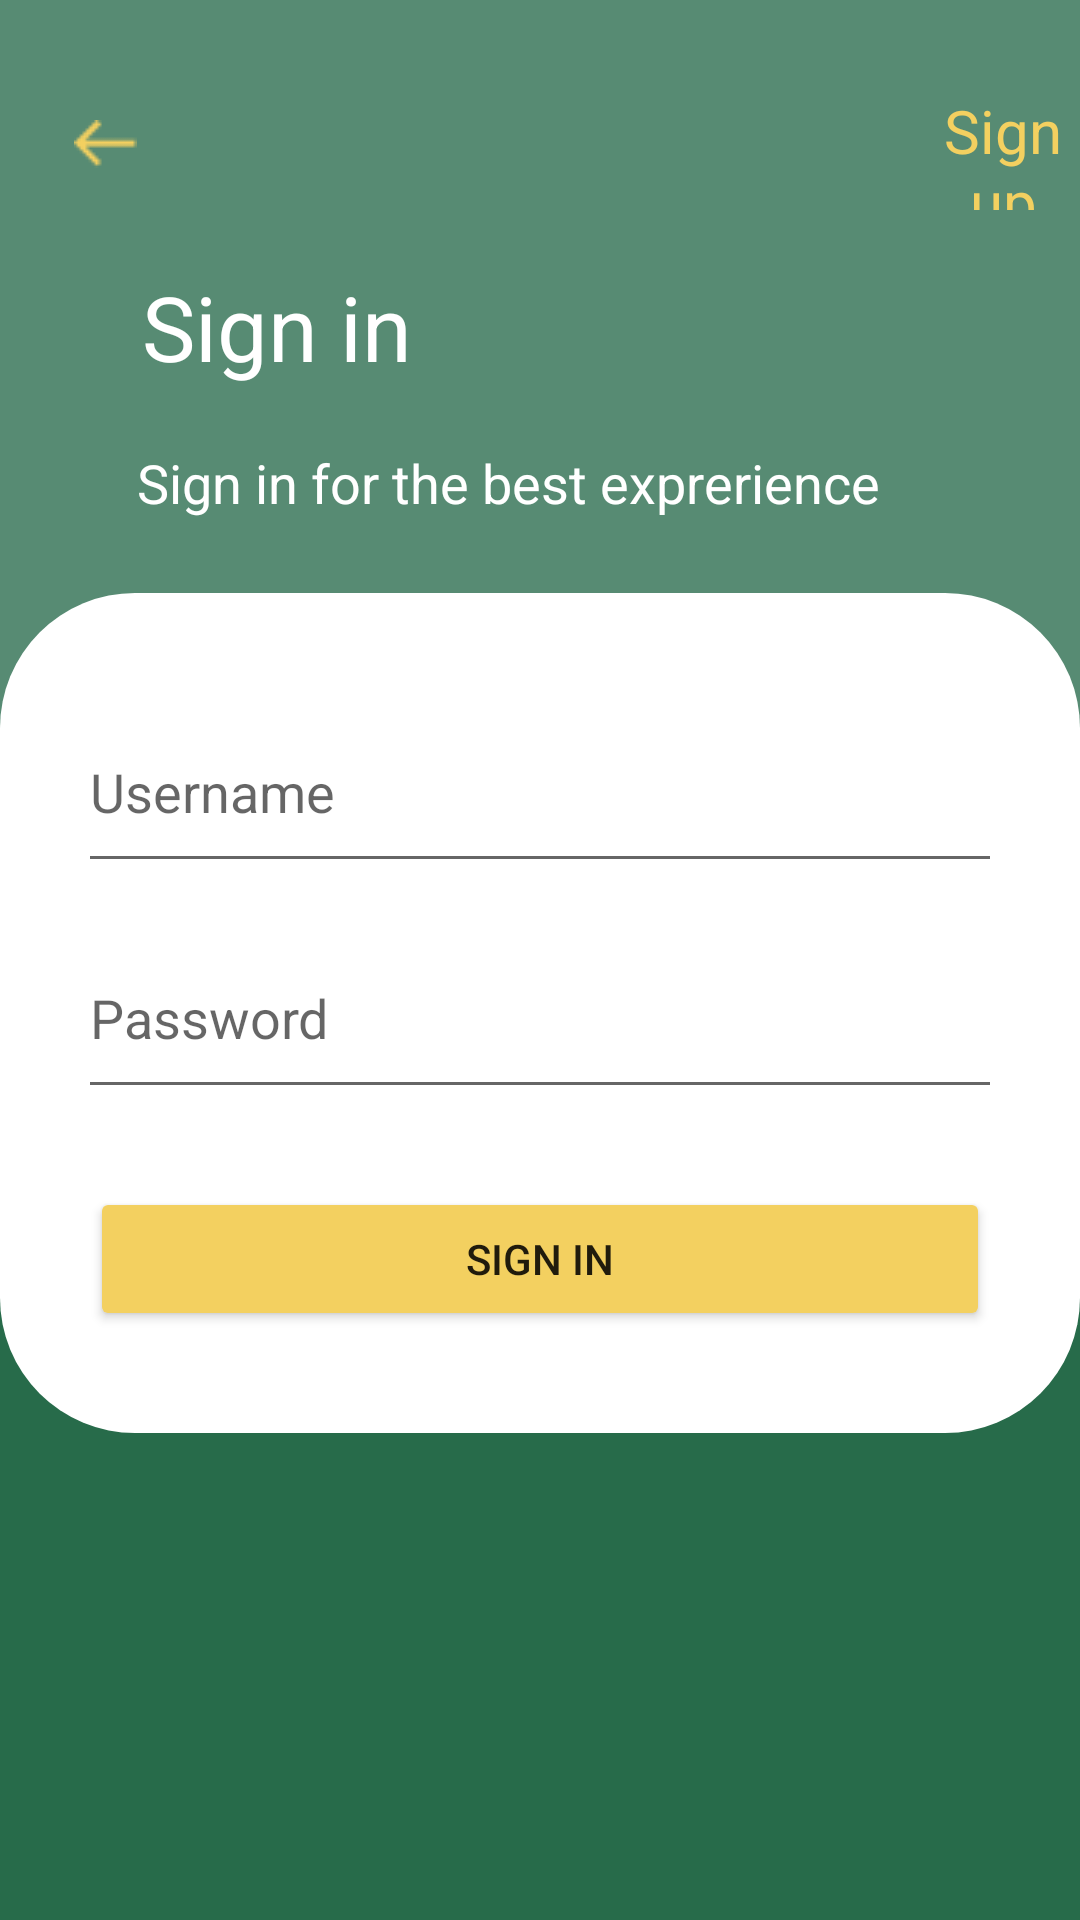

Screen size 1080*1920. Icon name, then its box in pixels as (x1, y1, x2, y2):
arrowleft: (74, 120, 137, 166)
